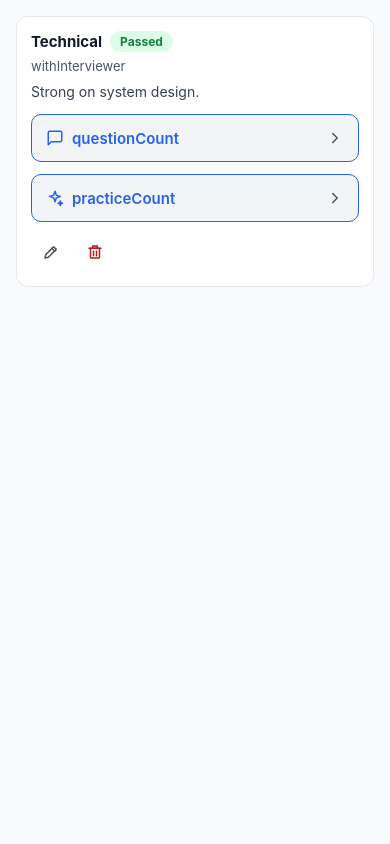
it: InterviewsScreen › opens the form pre-filled when editing a round
Step 1. Click the button with test id "edit-round-round-1" → (51, 252), box [31,232,71,272]
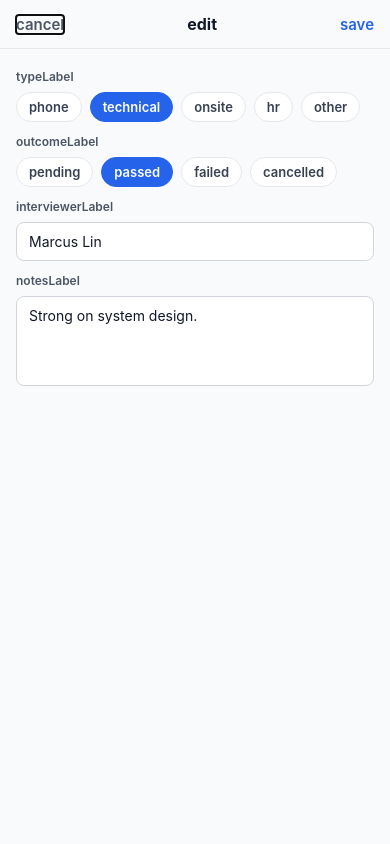
Now the field with test id "interview-interviewer-input" holds "Marcus Lin", box [16,222,374,261]
Now the text box with test id "interview-notes-input" holds "Strong on system design.", box [16,296,374,386]
